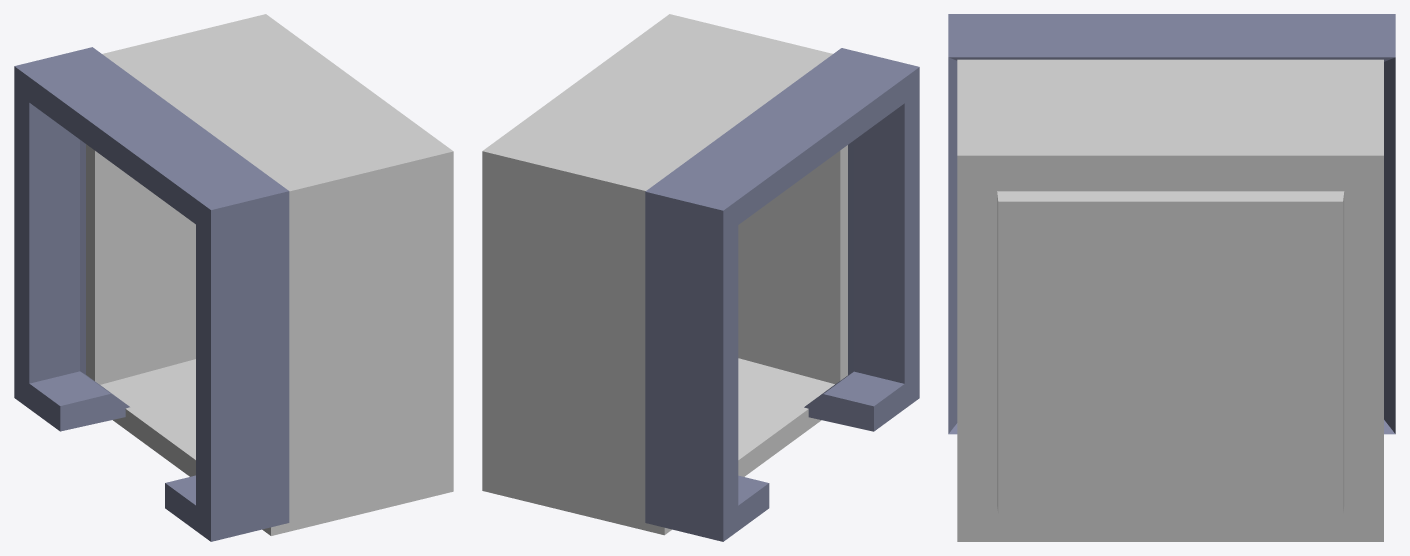
File: FBX_EntreeLabo.fbx
3 renders of one model, left to right at view 1: azimuth 30°, elevation 25°; view 2: azimuth 150°, elevation 25°; view 3: azimuth 270°, elevation 25°, orthographic. The views are drawn at different scales.
Visible parts, largest first — view 1: Cube.170, Cube.171; view 2: Cube.170, Cube.171; view 3: Cube.170, Cube.171.
Boxes of the visible parts, left/top/right/bottom form: Cube.170: left=86, top=14, right=453, bottom=535; Cube.171: left=14, top=47, right=289, bottom=541; Cube.170: left=482, top=14, right=847, bottom=535; Cube.171: left=645, top=48, right=919, bottom=541; Cube.170: left=957, top=59, right=1383, bottom=541; Cube.171: left=948, top=14, right=1395, bottom=434.
Bounding box in the file's own units: 737 × 922 × 954.
